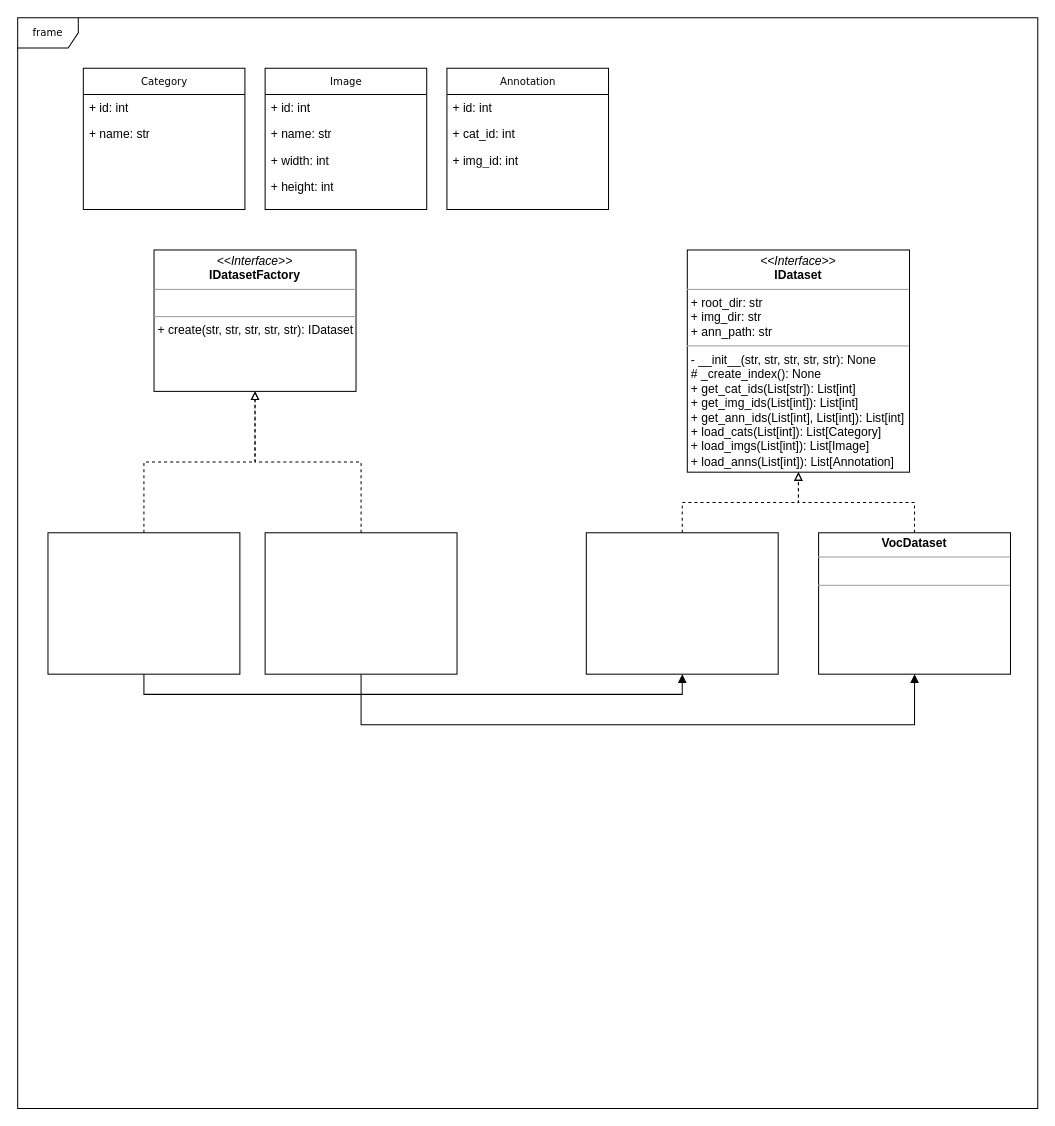
The diagram is 1055 pixels wide and 1126 high, and some of its shapes have lost their labels. Here are the shapes that lost their labels. From the top down, the centre of each, then its label:
(x=143, y=603): CocoDatasetFactory
(x=360, y=603): VocDatasetFactory
(x=681, y=603): CocoDataset
